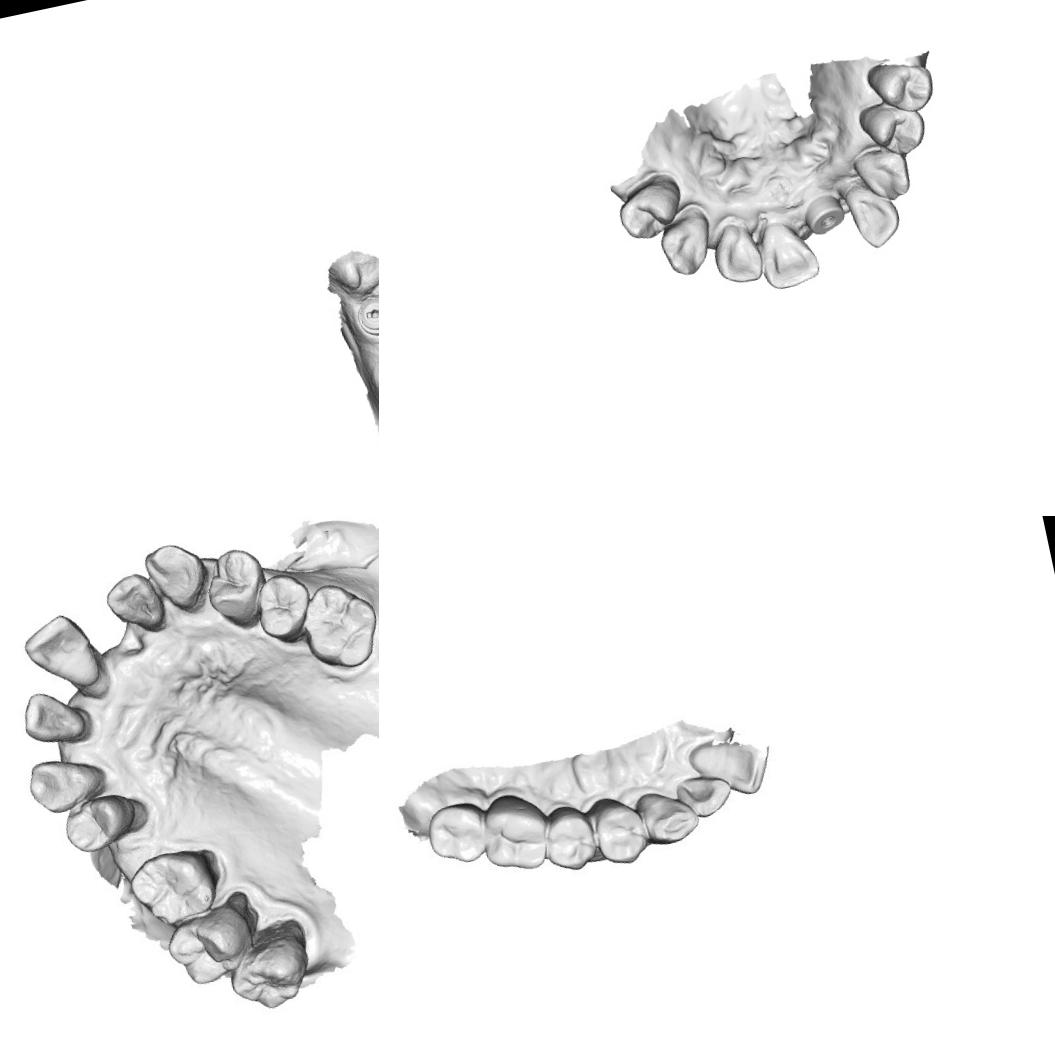canine: (140, 537, 208, 617), (652, 207, 720, 284), (24, 750, 102, 816), (852, 138, 920, 206), (636, 780, 702, 850)
implant: (801, 188, 849, 238)
implant_minus: (350, 288, 379, 343)
incisor: (18, 605, 106, 697), (751, 213, 825, 296), (694, 730, 772, 803), (840, 175, 907, 255), (704, 214, 770, 290), (17, 684, 88, 754), (104, 566, 168, 634), (676, 770, 734, 826)
molar: (128, 842, 226, 932), (293, 577, 379, 677), (220, 925, 310, 1016), (164, 907, 252, 993), (480, 790, 558, 875), (422, 798, 496, 872)
premolar: (611, 172, 692, 247), (860, 51, 941, 124), (852, 94, 932, 166), (204, 546, 272, 630), (247, 566, 317, 646), (52, 792, 136, 858), (588, 792, 653, 870), (542, 808, 596, 871)
